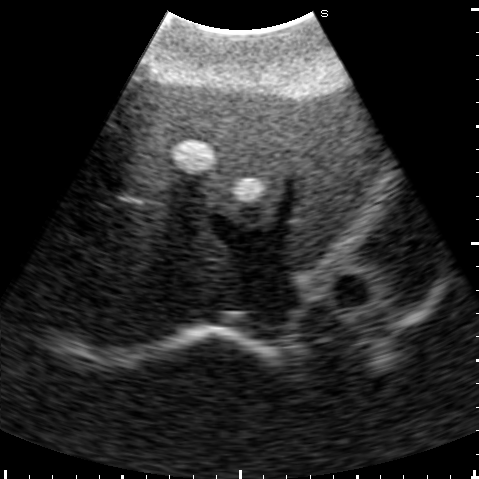S2: (288, 95, 377, 267)
S4: (113, 81, 295, 227)
S7: (49, 259, 179, 347)
S8: (86, 167, 234, 290)
Tumor: (169, 139, 216, 175), (232, 178, 263, 204)
